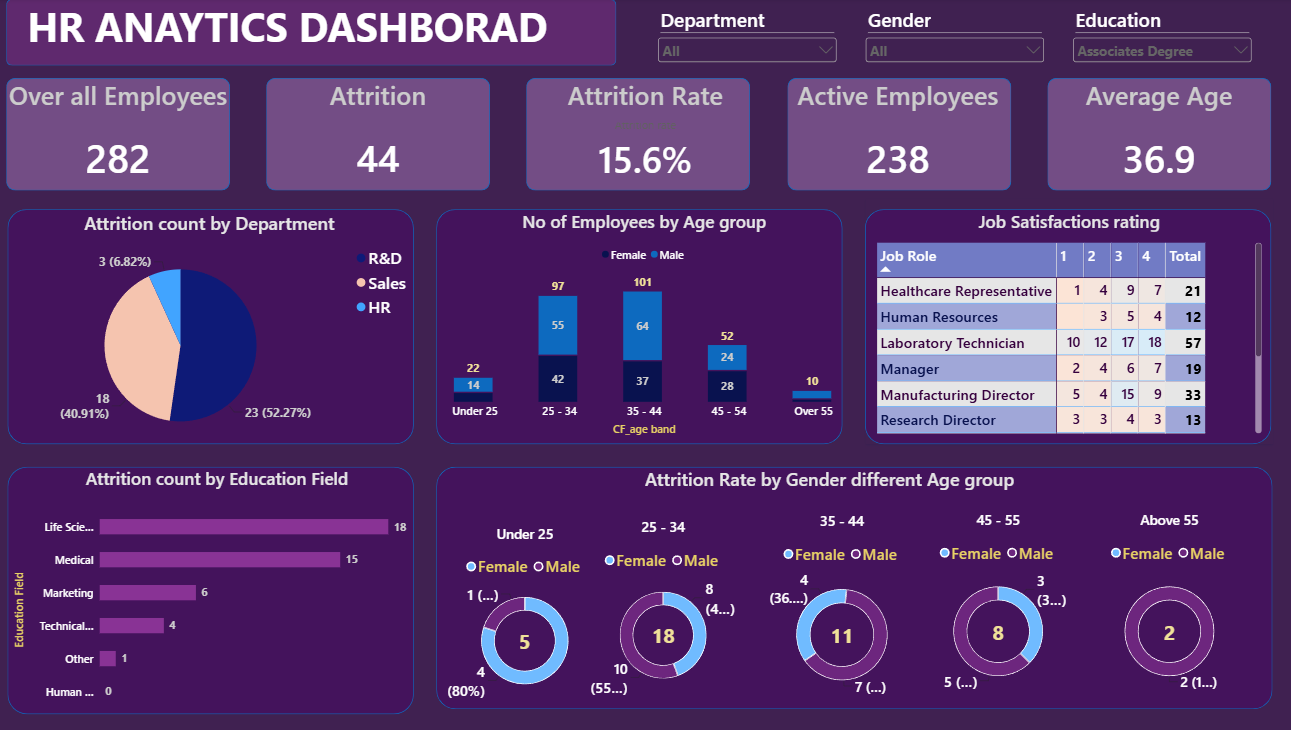

The page's visual inventory and layout, read from the dashboard file:
{"tool":"powerbi","page":{"name":"Page 1","canvas":[1920,1080],"ordinal":0},"visuals":[{"type":"shape","box":[657.1,690.2,1231.3,357.1],"z":0},{"type":"shape","box":[1288.4,311,598.2,346],"z":1000},{"type":"shape","box":[657.1,311,598.2,346],"z":2000},{"type":"shape","box":[25.8,311,598.2,346],"z":3000},{"type":"shape","box":[23.9,117.8,329.4,165.6],"z":4000},{"type":"cardVisual","title":"Over all Employees","fields":{"Data":["CountNonNull(Data.Employee Count)"]},"box":[23.9,117.8,329.4,165.6],"z":5000},{"type":"shape","box":[407.2,117.8,329.4,165.6],"z":6000},{"type":"shape","box":[789.6,117.8,329.4,165.6],"z":7000},{"type":"shape","box":[1173.8,117.8,329.4,165.6],"z":8000},{"type":"shape","box":[1557.1,117.8,329.4,165.6],"z":9000},{"type":"cardVisual","title":"Attrition","fields":{"Data":["Sum(Data.Attririon count)"]},"box":[407.3,117.8,329,166],"z":10000},{"type":"cardVisual","title":"Active Employees","fields":{"Data":["Data.Active Employees"]},"box":[1172.4,117.8,329,166],"z":12000},{"type":"cardVisual","title":"Average Age","fields":{"Data":["Avg(Data.Age)"]},"box":[1557.1,117.8,329,166],"z":13000},{"type":"shape","box":[23.5,2.1,898.2,97.5],"z":14000},{"type":"pieChart","title":" Attrition count by Department","fields":{"Category":["Data.Department"],"Y":["Sum(Data.Attririon count)"]},"box":[23.5,312.2,598.2,346],"z":15000},{"type":"columnChart","title":"No of Employees by Age group","fields":{"Category":["Data.CF_age band"],"Series":["Data.Gender"],"Y":["CountNonNull(Data.Employee Count)"]},"box":[633.1,311,660.7,333.1],"z":16000},{"type":"pivotTable","title":"Job Satisfactions rating","fields":{"Columns":["Data.Job Satisfaction"],"Rows":["Data.Job Role"],"Values":["CountNonNull(Data.Employee Count)"]},"box":[1290.2,296.3,598.2,360.7],"z":17000},{"type":"shape","box":[25.8,690.2,598.2,364.4],"z":18000},{"type":"clusteredBarChart","title":"Attrition count by Education Field","fields":{"Category":["Data.Education Field"],"Y":["Sum(Data.Attririon count)"]},"box":[34.2,690.6,598.7,363.5],"z":19000},{"type":"donutChart","title":"Under 25","fields":{"Category":["Data.Gender"],"Series":["Data.CF_age band"],"Y":["Sum(Data.Attririon count)"]},"box":[657.1,760.1,260.8,292.9],"z":20000},{"type":"donutChart","title":"25 - 34","fields":{"Category":["Data.Gender"],"Series":["Data.CF_age band"],"Y":["Sum(Data.Attririon count)"]},"box":[865.9,750.5,252.3,295.1],"z":21000},{"type":"donutChart","title":"35 - 44","fields":{"Category":["Data.Gender"],"Series":["Data.CF_age band"],"Y":["Sum(Data.Attririon count)"]},"box":[1128.9,741.9,252.3,312.2],"z":22000},{"type":"donutChart","title":"45 - 55","fields":{"Category":["Data.Gender"],"Series":["Data.CF_age band"],"Y":["Sum(Data.Attririon count)"]},"box":[1357.7,739.8,252.3,305.7],"z":23000},{"type":"donutChart","title":"Above 55","fields":{"Category":["Data.Gender"],"Series":["Data.CF_age band"],"Y":["Sum(Data.Attririon count)"]},"box":[1610,739.8,252.3,305.7],"z":24000},{"type":"textbox","box":[100,100,300,300],"z":25000},{"type":"cardVisual","title":"Attrition Rate","fields":{"Data":["Data.Attrition rate"]},"box":[814.6,117.6,299.3,147.5],"z":25001},{"type":"textbox","box":[964.3,690.6,701.3,66.3],"z":25002},{"type":"textbox","box":[55.6,2.1,810.3,98.4],"z":25003},{"type":"slicer","fields":{"Values":["Data.Education"]},"box":[1590.2,12.9,272.4,104.9],"z":25004},{"type":"slicer","fields":{"Values":["Data.Department"]},"box":[979.1,12.9,272.4,86.5],"z":25005},{"type":"slicer","fields":{"Values":["Data.Gender"]},"box":[1284.7,12.9,272.4,104.9],"z":25006}]}

Visuals, with their boxes in screenshot pixels (x1, y1, x2, y2), scaled from the page's 1920x1080 canvas onto the 1291x730 screenshot:
shape: locate(442, 467, 1270, 708)
shape: locate(866, 210, 1269, 444)
shape: locate(442, 210, 844, 444)
shape: locate(17, 210, 420, 444)
shape: locate(16, 80, 238, 192)
"Over all Employees" cardVisual: locate(16, 80, 238, 192)
shape: locate(274, 80, 495, 192)
shape: locate(531, 80, 752, 192)
shape: locate(789, 80, 1011, 192)
shape: locate(1047, 80, 1268, 192)
"Attrition" cardVisual: locate(274, 80, 495, 192)
"Active Employees" cardVisual: locate(788, 80, 1010, 192)
"Average Age" cardVisual: locate(1047, 80, 1268, 192)
shape: locate(16, 1, 620, 67)
" Attrition count by Department" pieChart: locate(16, 211, 418, 445)
"No of Employees by Age group" columnChart: locate(426, 210, 870, 435)
"Job Satisfactions rating" pivotTable: locate(868, 200, 1270, 444)
shape: locate(17, 467, 420, 713)
"Attrition count by Education Field" clusteredBarChart: locate(23, 467, 426, 712)
"Under 25" donutChart: locate(442, 514, 617, 712)
"25 - 34" donutChart: locate(582, 507, 752, 707)
"35 - 44" donutChart: locate(759, 501, 929, 712)
"45 - 55" donutChart: locate(913, 500, 1083, 707)
"Above 55" donutChart: locate(1083, 500, 1252, 707)
textbox: locate(67, 68, 269, 270)
"Attrition Rate" cardVisual: locate(548, 79, 749, 179)
textbox: locate(648, 467, 1120, 512)
textbox: locate(37, 1, 582, 68)
slicer - Data.Education: locate(1069, 9, 1252, 80)
slicer - Data.Department: locate(658, 9, 842, 67)
slicer - Data.Gender: locate(864, 9, 1047, 80)
